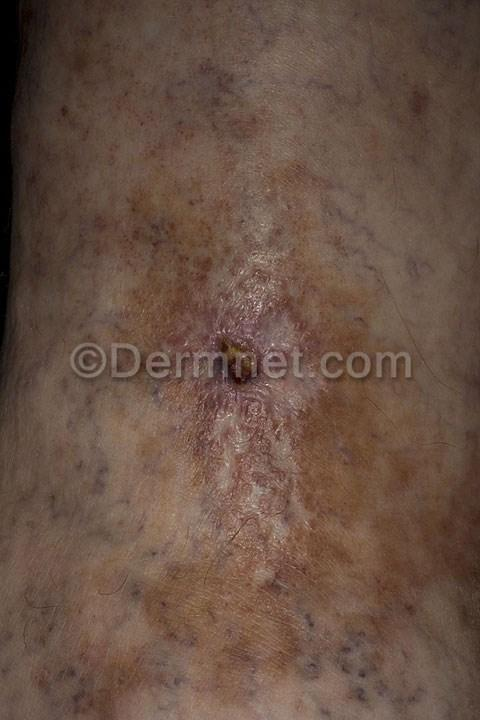Eczema: (206, 135, 312, 245), (124, 97, 220, 216), (197, 332, 302, 439), (203, 446, 310, 539), (96, 298, 193, 398), (43, 0, 130, 103), (113, 395, 195, 504), (111, 215, 220, 296), (175, 545, 257, 649), (74, 638, 172, 720), (186, 53, 274, 144), (251, 254, 338, 344), (304, 416, 377, 511), (194, 238, 271, 328), (259, 517, 345, 597), (44, 78, 135, 153), (106, 549, 179, 641), (256, 594, 333, 681), (304, 341, 388, 419), (334, 600, 415, 677), (341, 509, 411, 596), (374, 425, 446, 509), (412, 500, 479, 588), (380, 59, 448, 136)
